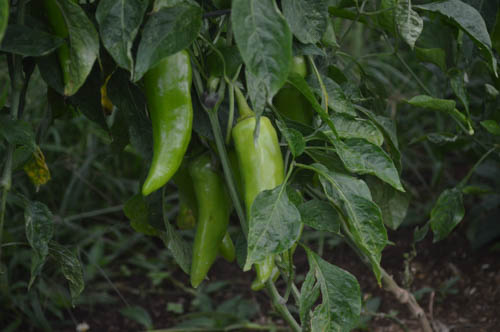ChiliPepper: (137, 54, 197, 199), (233, 117, 283, 283), (192, 156, 234, 292), (177, 167, 238, 260), (278, 55, 314, 122)
